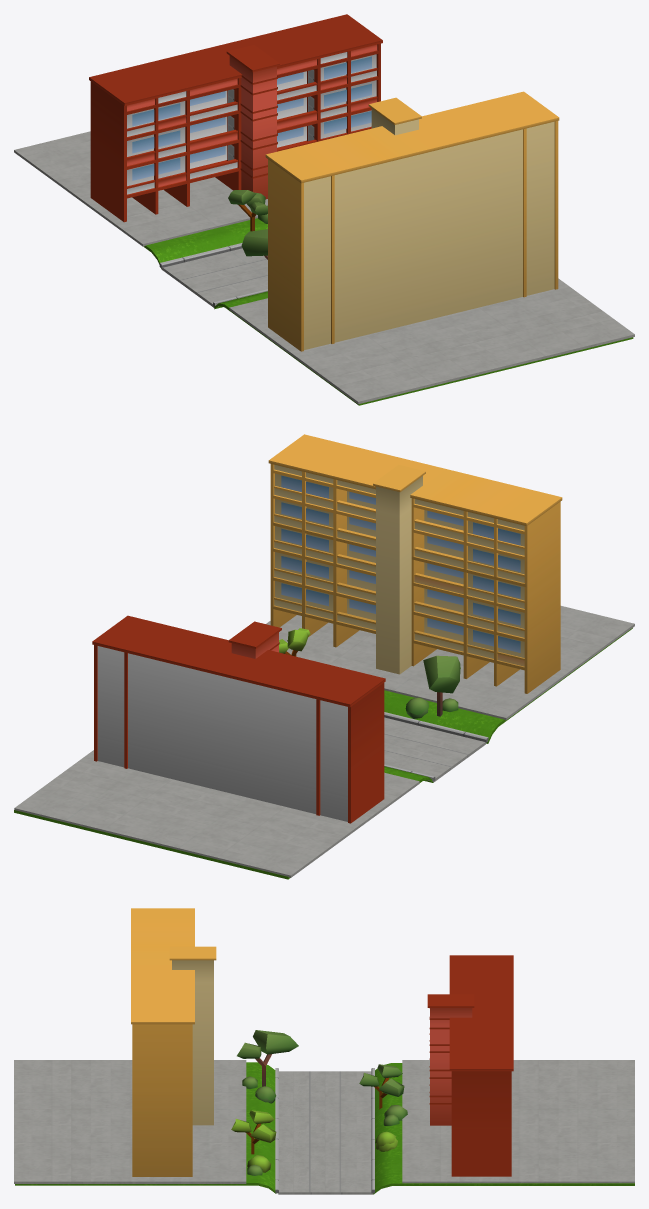
Rendered from Level 3 Chunk 3 V2.fbx.
3 renders of one model, top to bottom at view 1: azimuth 30°, elevation 25°; view 2: azimuth 150°, elevation 25°; view 3: azimuth 270°, elevation 25°, orthographic. The views are drawn at different scales.
Parts seen in each view (by area): view 1: pCube15464, polySurface739, pCube13890, pCube13888, pCube13899, pCube13894, pCube13901, pCube13895, polySurface55; view 2: pCube15464, polySurface739, pCube13888, pCube13890, pCube13899, pCube13901, polySurface55, pCube13894, pCube13892; view 3: pCube13888, pCube15464, pCube13890, polySurface739, pCube13899, pCube13894, pCube13901, polySurface55, pCube13895, pCube13891, pCube13892, pCube13893.
Part boxes in pixels (x1,y1,x2,y2): pCube15464: (265,91,559,351); polySurface739: (89,14,382,222); pCube13890: (229,278,634,404); pCube13888: (14,131,267,246); pCube13899: (161,248,267,307); pCube13894: (143,218,267,268); pCube13901: (214,291,633,405); pCube13895: (228,190,267,231); polySurface55: (241,229,267,259); pCube15464: (268,434,562,693); polySurface739: (92,615,385,823); pCube13888: (14,750,419,877); pCube13890: (266,606,634,720); pCube13899: (384,717,485,782); pCube13901: (384,628,632,743); polySurface55: (423,655,460,716); pCube13894: (14,766,433,879); pCube13892: (384,712,488,742); pCube13888: (402,1060,634,1183); pCube15464: (131,908,216,1176); pCube13890: (14,1060,246,1183); polySurface739: (427,955,513,1176); pCube13899: (278,1071,373,1194); pCube13894: (373,1063,634,1194); pCube13901: (15,1062,276,1193); polySurface55: (237,1030,298,1086); pCube13895: (359,1064,404,1109); pCube13891: (231,1110,276,1154); pCube13892: (275,1068,278,1193); pCube13893: (371,1068,374,1193).
Size of the model in its own units: 12.43 by 8.52 by 26.6.
Materials: 2 (2 with a texture image).
